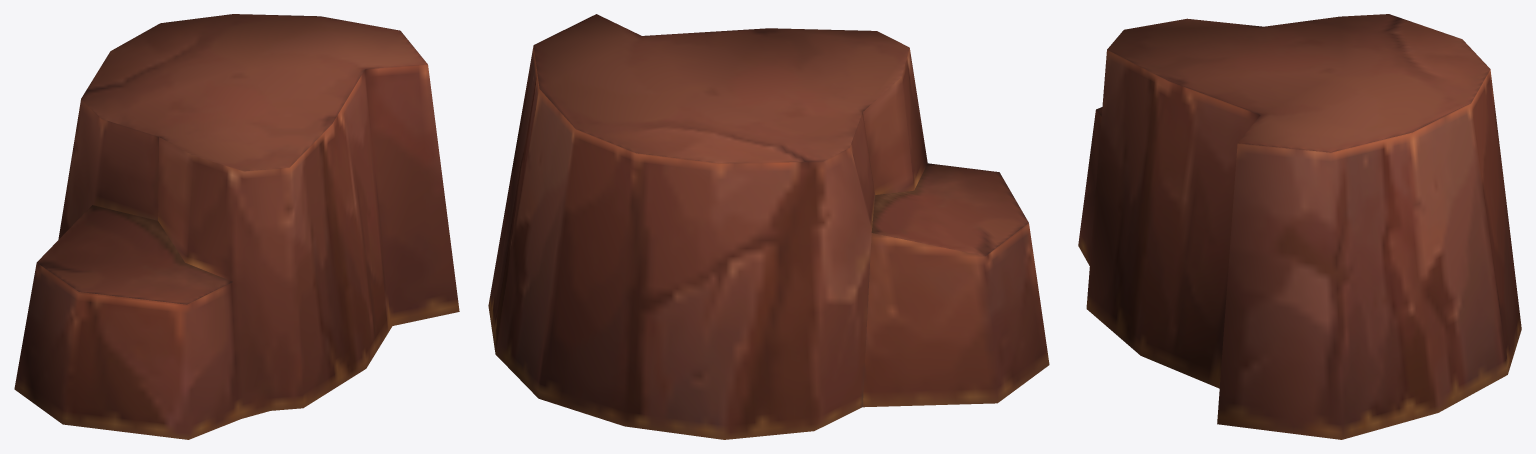
The model's file is shibi_03.FBX.
The picture shows the model from 3 angles, left to right: view 1: azimuth 30°, elevation 25°; view 2: azimuth 150°, elevation 25°; view 3: azimuth 270°, elevation 25°; orthographic projection. The views are drawn at different scales.
Visible parts, largest first — view 1: shibi_03; view 2: shibi_03; view 3: shibi_03.
Boxes of the visible parts, <box> form: shibi_03: <box>14,14,459,439</box>; shibi_03: <box>488,14,1049,439</box>; shibi_03: <box>1078,14,1521,439</box>.
Bounding box in the file's own units: 2.98 × 1.58 × 2.36.
